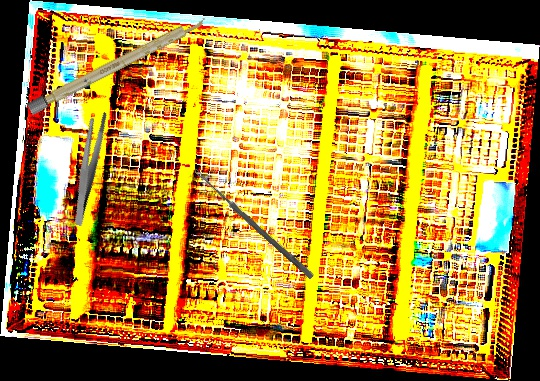Dressing Forceps: (46, 108, 131, 227)
Scalpel Handle: (26, 13, 209, 116)
Surgical Spoon: (192, 167, 315, 280)
